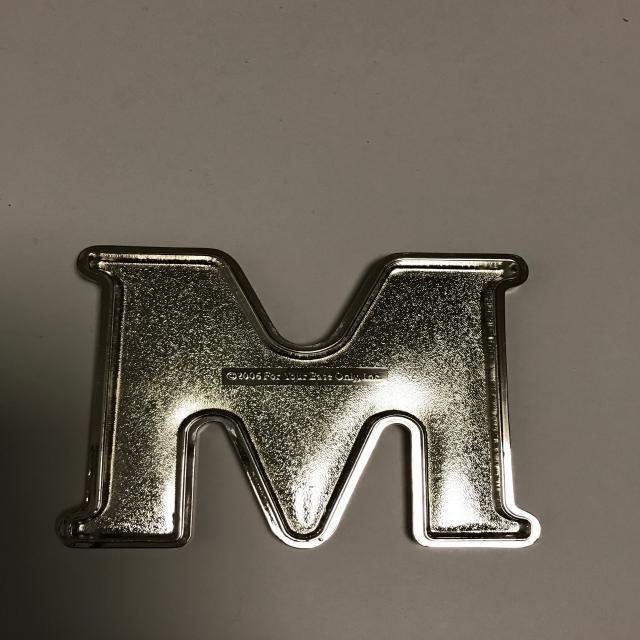Metal: (62, 229, 553, 558)
